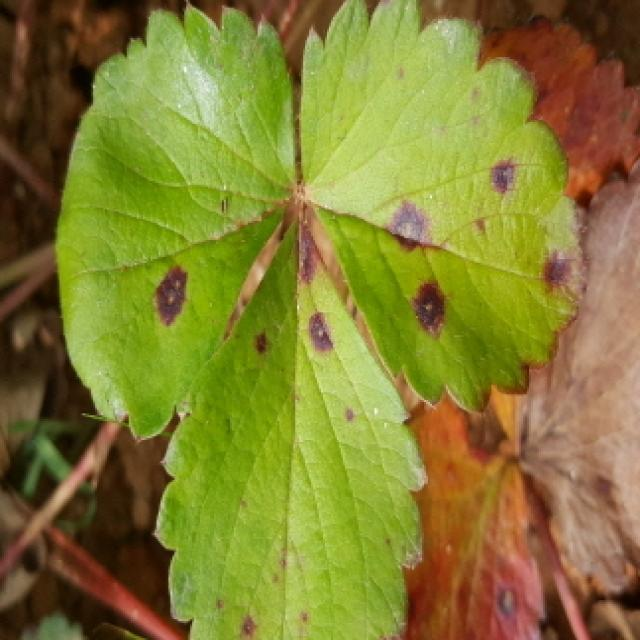Leaf Spot: (300, 0, 589, 418), (153, 210, 431, 640), (55, 0, 301, 443), (391, 369, 550, 640)
